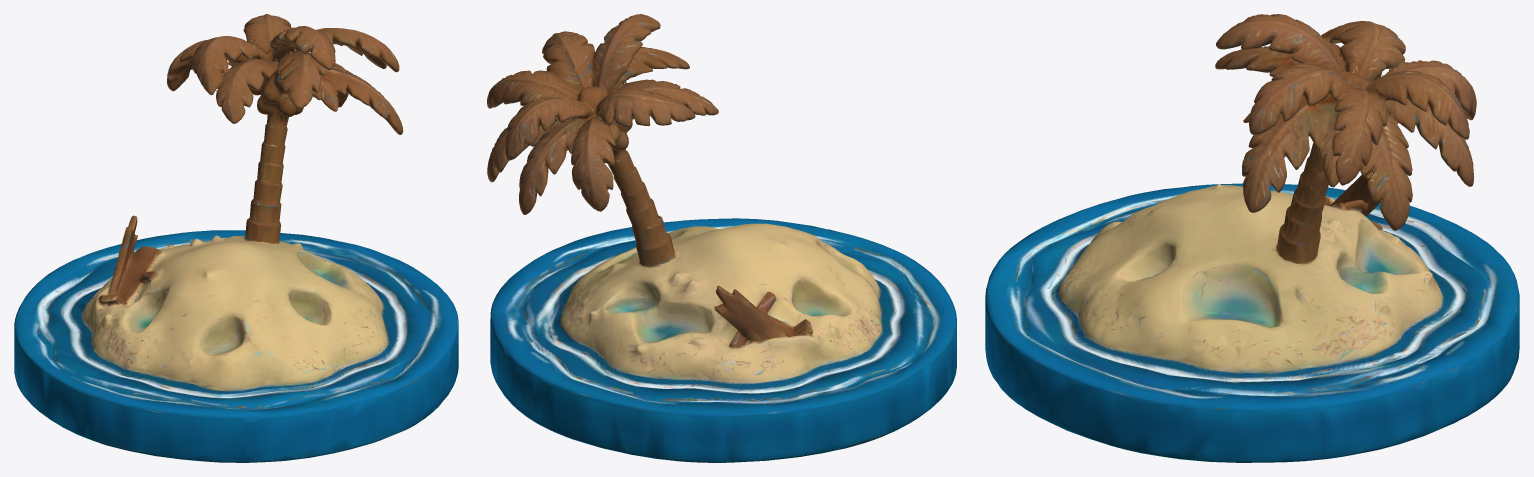
The model's file is island.glb.
3 views of the same model, side by side, from view 1: azimuth 30°, elevation 25°; view 2: azimuth 150°, elevation 25°; view 3: azimuth 270°, elevation 25° (orthographic). The views are drawn at different scales.
Parts seen in each view (by area): view 1: Mesh_0; view 2: Mesh_0; view 3: Mesh_0.
Boxes of the visible parts, x1,y1,x2,y2 form: Mesh_0: (14,14,458,462); Mesh_0: (487,14,956,462); Mesh_0: (985,14,1519,462).
Bounding box in the file's own units: 1.9 × 1.49 × 1.9.
1 material, 1 textured.
